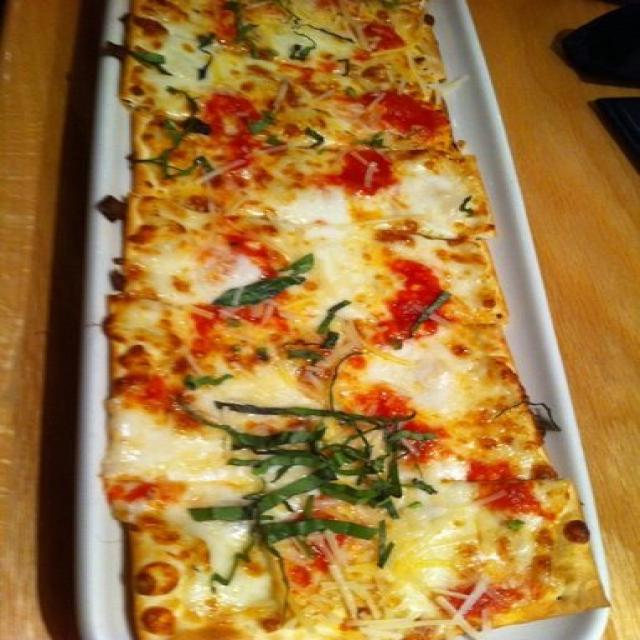Basil: (237, 431, 405, 498), (195, 497, 389, 548), (216, 394, 410, 425), (210, 267, 304, 304), (156, 112, 200, 175), (275, 476, 386, 498), (192, 34, 218, 76), (288, 19, 314, 60), (244, 108, 277, 134)
Cheese: (300, 188, 384, 294), (414, 482, 483, 592), (119, 411, 217, 478), (182, 508, 268, 580), (374, 342, 472, 403), (158, 30, 226, 96), (158, 244, 228, 298), (406, 169, 462, 232)
Pizza: (99, 0, 606, 640)
